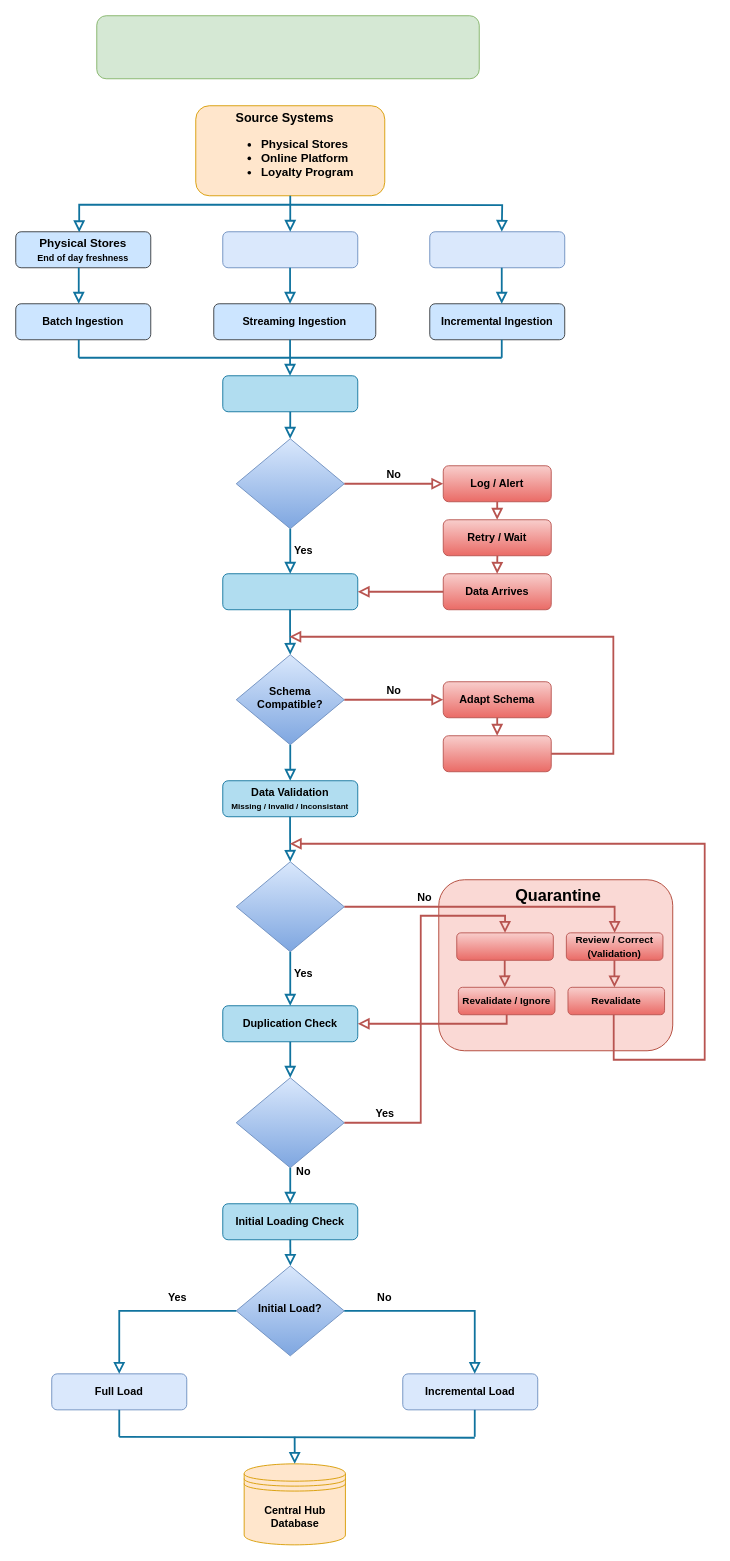
Some shapes in this 730 by 1561 pixel diagram are drawn without their labels. The centre of each missing label's shape, as x and y in pixels:
Data Arrival: point (290, 393)
Data Arrived on time?: point (289, 483)
Data Duplicate?: point (289, 1122)
Data Valid?: point (289, 906)
FreshMart Architecture: point (287, 47)
Loyalty Program As required for business: point (497, 249)
Online Platform Near Real Time: point (290, 249)
Recheck Schema: point (496, 753)
Review / Correct (Dublication): point (504, 946)
Schema Compatibality: point (290, 591)
